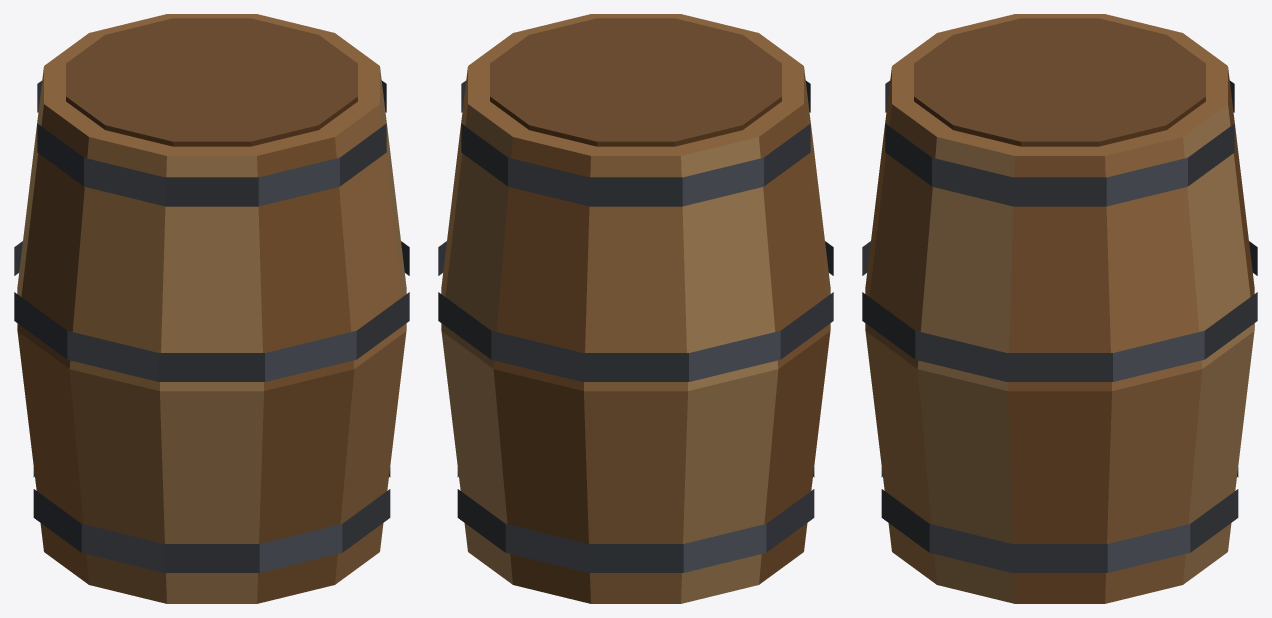
Rendered from barrel.glb.
3 views of the same model, side by side, from view 1: azimuth 30°, elevation 25°; view 2: azimuth 150°, elevation 25°; view 3: azimuth 270°, elevation 25° (orthographic).
Visible parts, largest first — view 1: barrel; view 2: barrel; view 3: barrel.
Part boxes in pixels (x1,y1,x2,y2): barrel: (14,14,409,603); barrel: (438,14,833,603); barrel: (862,14,1257,603).
Bounding box in the file's own units: 0.8635 × 1.09 × 0.8635.
